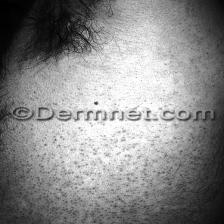Toxin: (9, 129, 224, 224), (164, 0, 224, 97), (87, 99, 107, 106)
